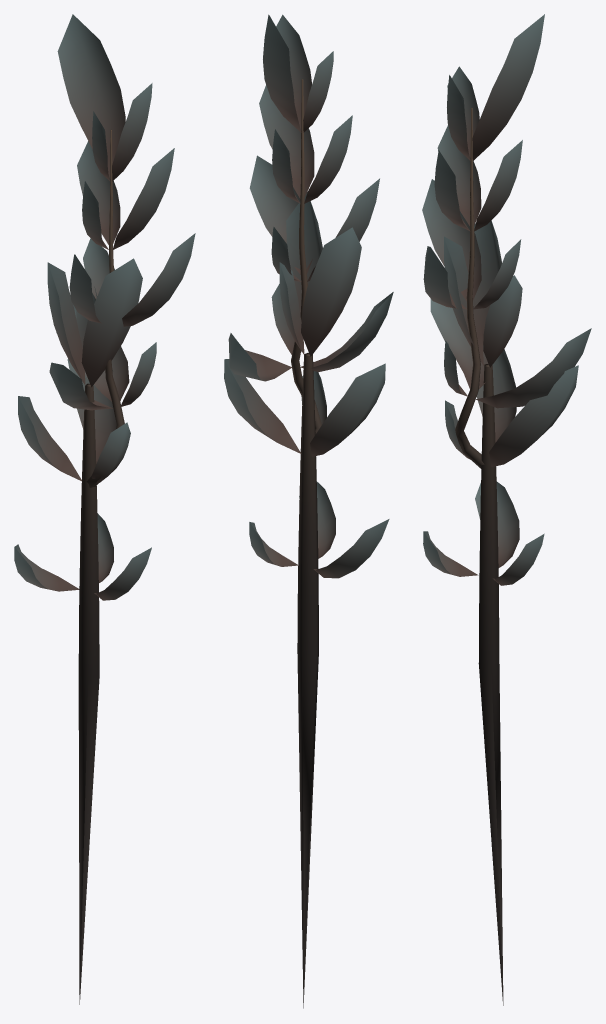
3 views of the same model, side by side, from view 1: azimuth 30°, elevation 25°; view 2: azimuth 150°, elevation 25°; view 3: azimuth 270°, elevation 25° (orthographic). The views are drawn at different scales.
Parts seen in each view (by area): view 1: alt46; view 2: alt46; view 3: alt46.
Boxes of the visible parts, x1,y1,x2,y2 form: alt46: (14,14,195,1004); alt46: (224,14,393,1008); alt46: (422,14,591,1005).
Size of the model in its own units: 0.0829 by 0.5 by 0.0767.
